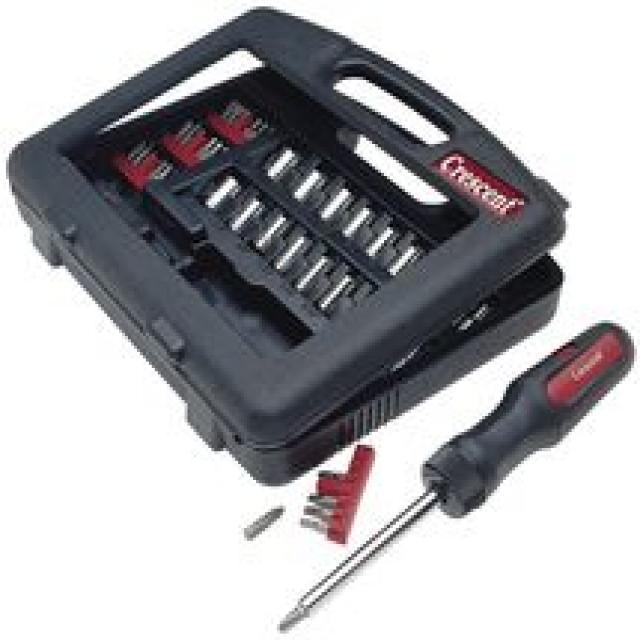screwdriver: (238, 307, 637, 640)
